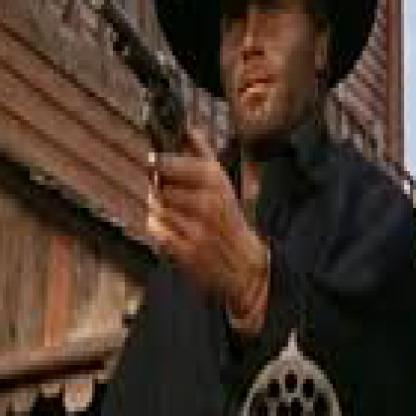gun: (0, 19, 413, 412)
